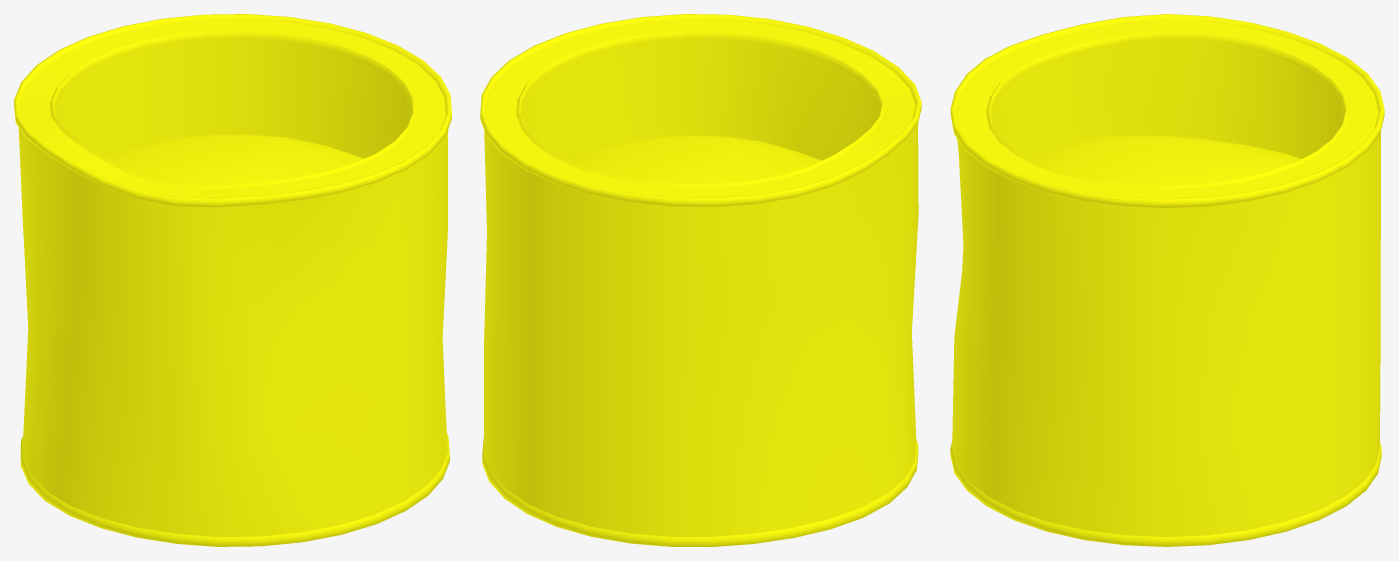
Rendered from SM_Ashtray01A.glb.
The picture shows the model from 3 angles, left to right: view 1: azimuth 30°, elevation 25°; view 2: azimuth 150°, elevation 25°; view 3: azimuth 270°, elevation 25°; orthographic projection.
Visible parts, largest first — view 1: SM_Ashtray01A_LOD0; view 2: SM_Ashtray01A_LOD0; view 3: SM_Ashtray01A_LOD0.
Part boxes in pixels (x1,y1,x2,y2): SM_Ashtray01A_LOD0: (14, 14, 451, 546); SM_Ashtray01A_LOD0: (480, 14, 921, 546); SM_Ashtray01A_LOD0: (950, 14, 1384, 546).
Size of the model in its own units: 0.1012 by 0.0911 by 0.1013.
Materials: 1 (1 with a texture image).
